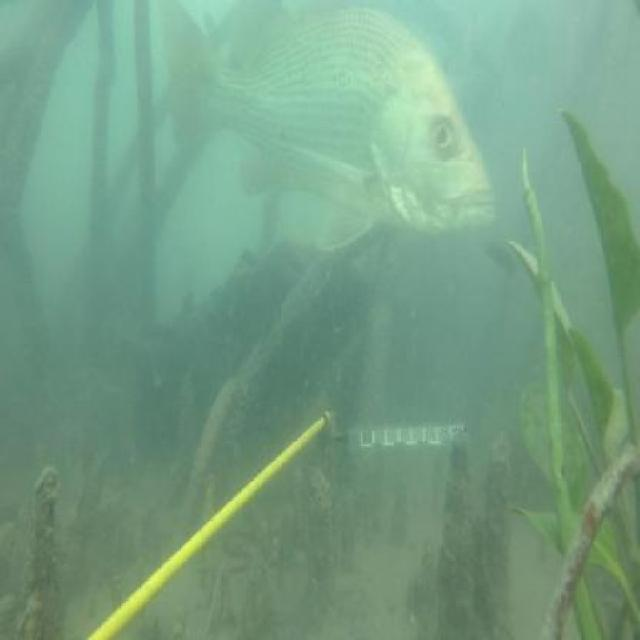lutjanus_johnii: (157, 1, 500, 261)
